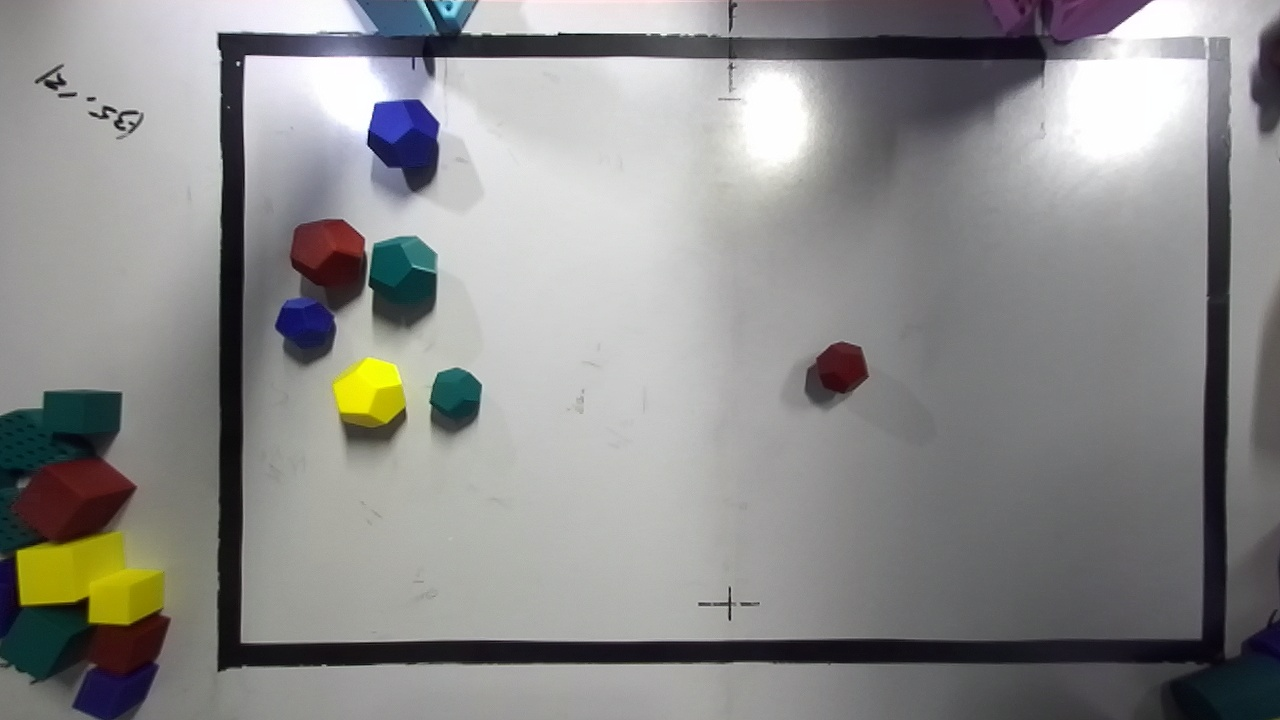dodecahedron: (332, 357, 404, 426), (290, 219, 364, 286), (367, 100, 438, 168), (369, 236, 437, 304), (275, 298, 335, 348), (429, 367, 481, 418), (816, 341, 867, 392)
